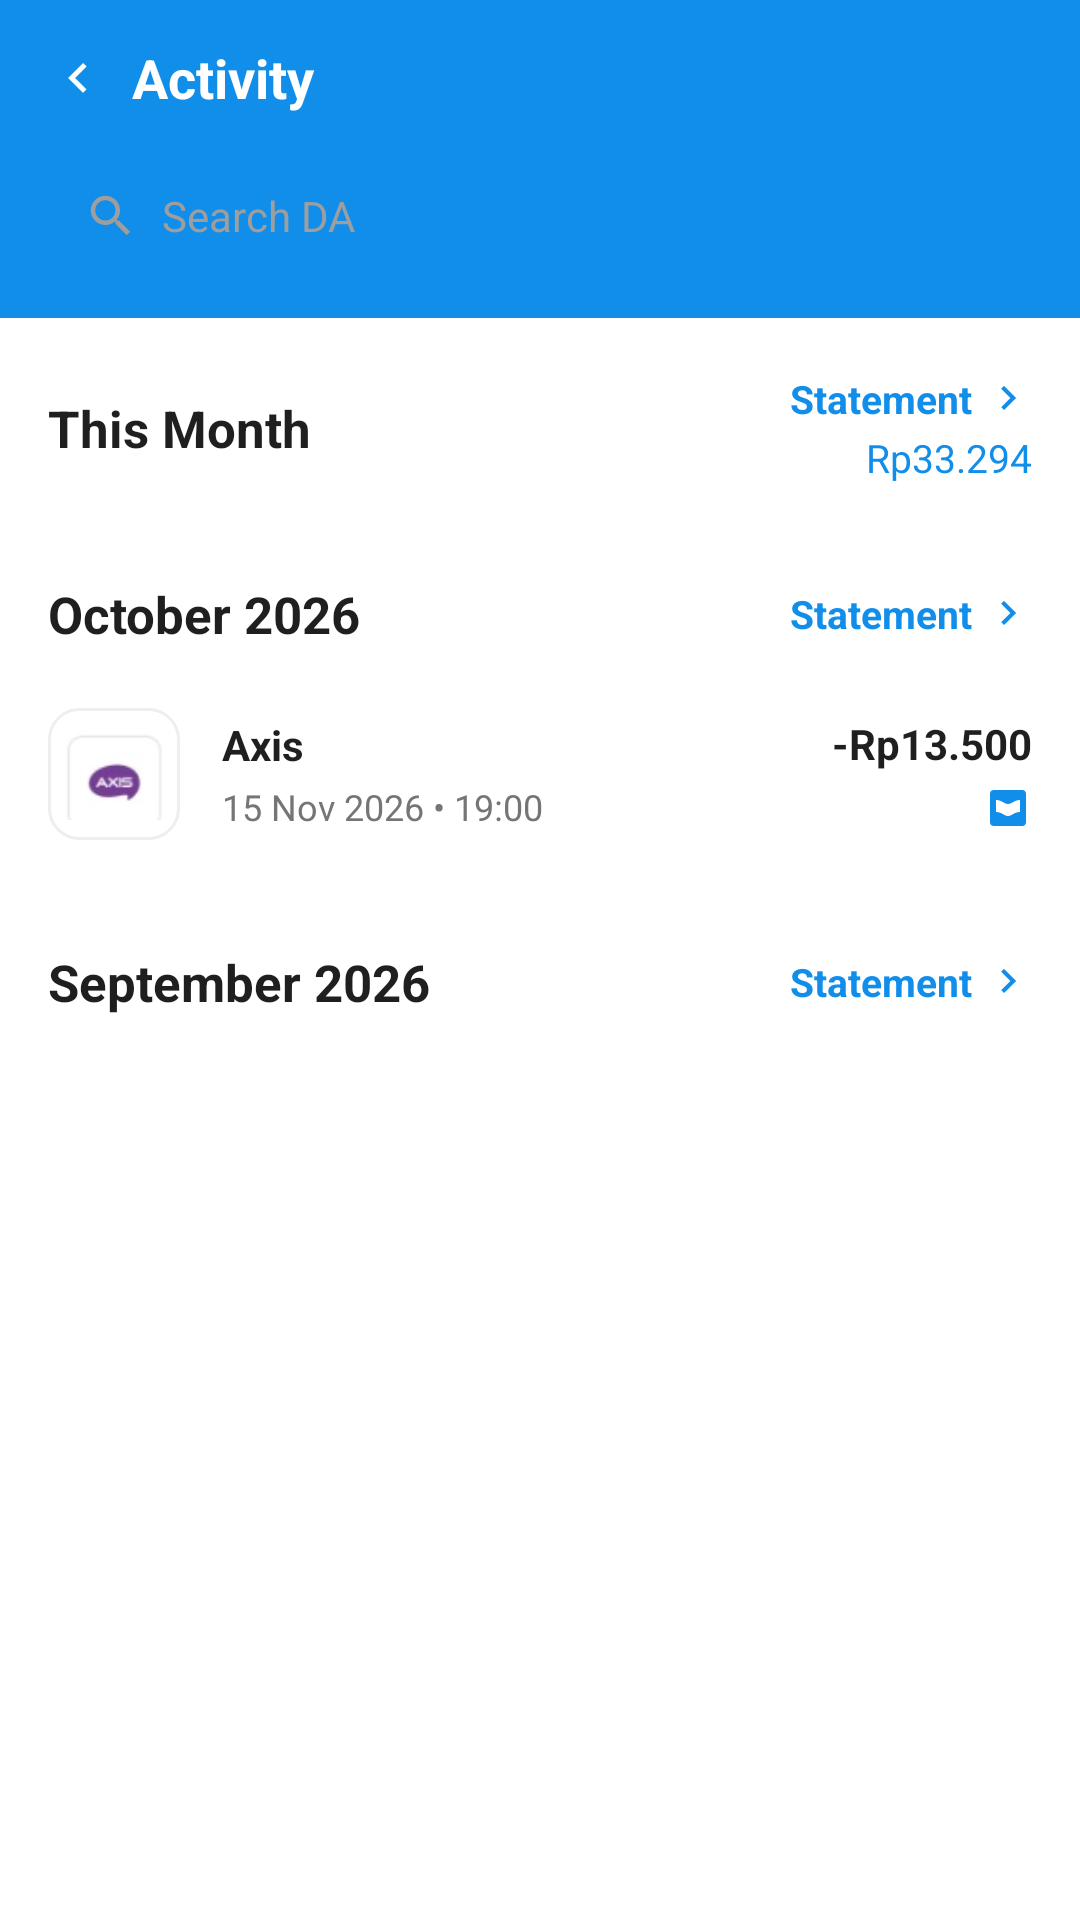

Where to tap for icons on this 1080*1920 app screen, as point (x, y):
Back: point (77, 78)
